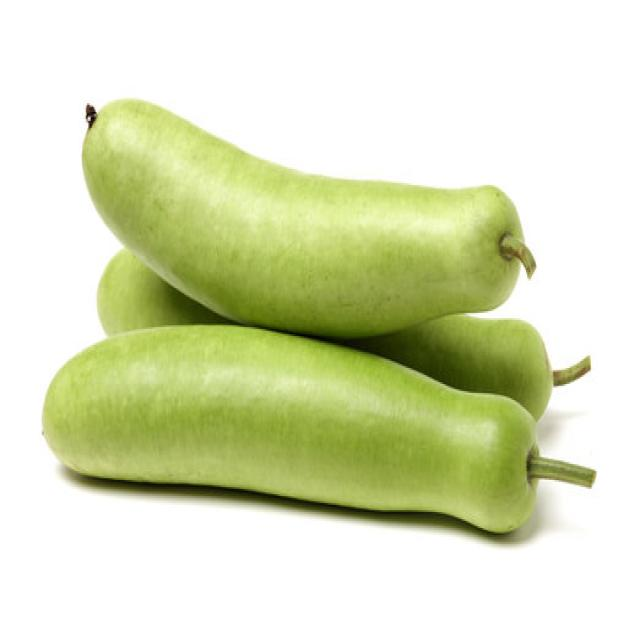Bottle Gourd: (40, 320, 596, 533), (81, 94, 537, 338), (357, 313, 591, 421)
